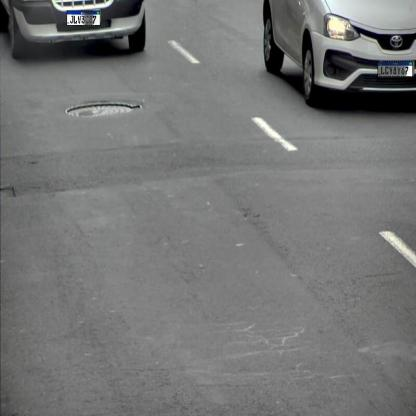PlacaM: (377, 61, 413, 77), (66, 10, 100, 26)
